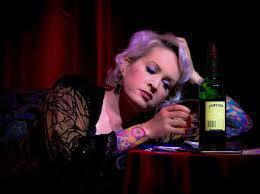Drunk: (126, 49, 179, 106)
